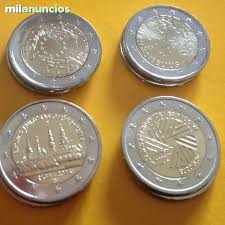eur002: (2, 99, 101, 204), (121, 96, 221, 194), (9, 9, 102, 92), (123, 5, 210, 83)
